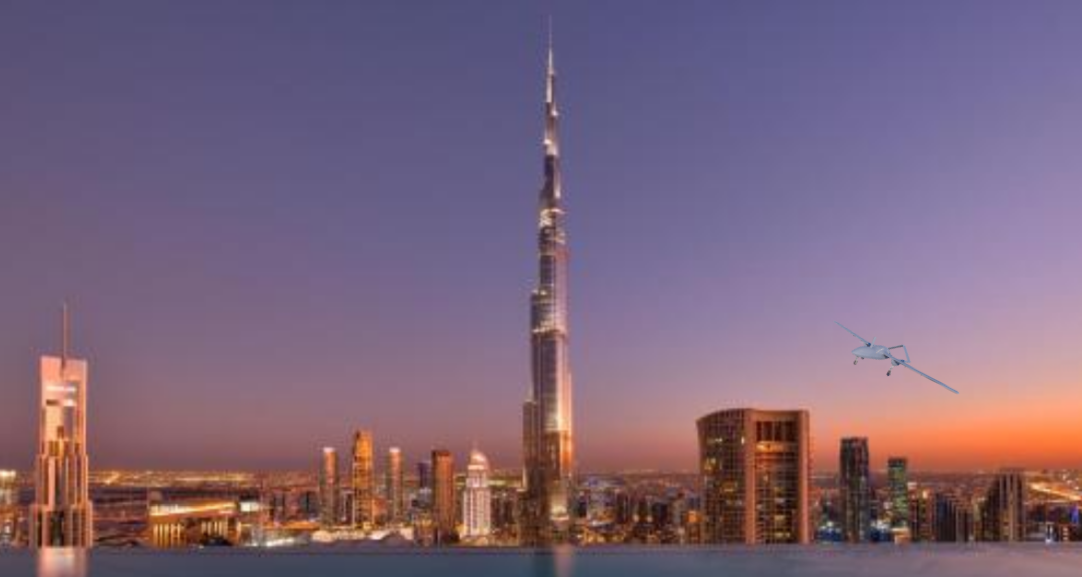military drone: (835, 321, 959, 394)
